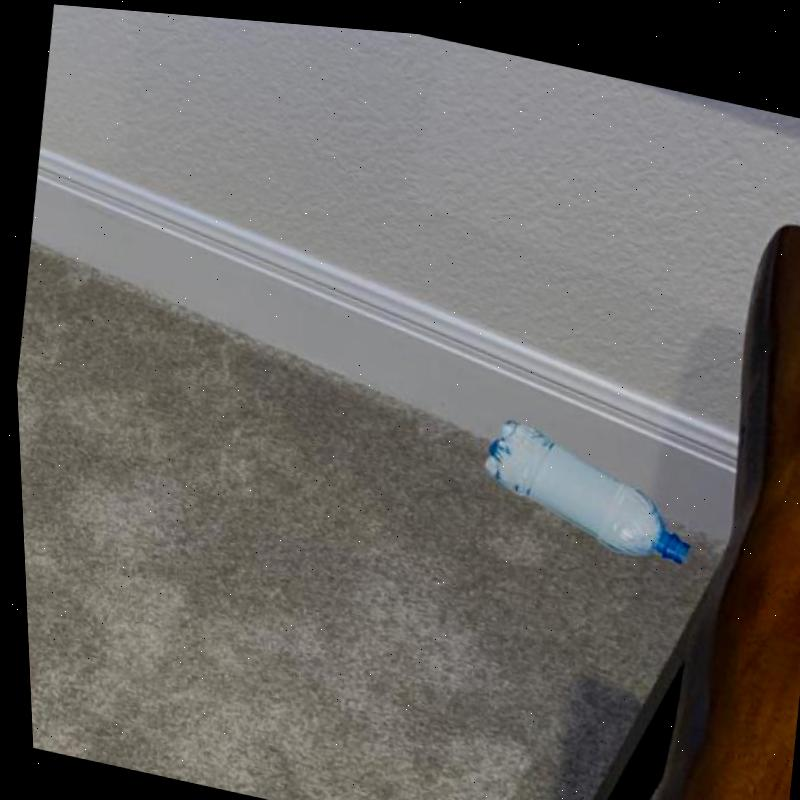botella: (472, 406, 701, 566)
